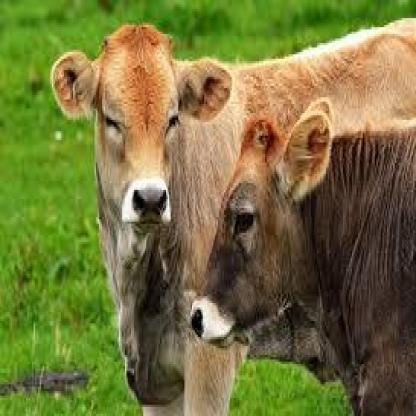cow: (50, 22, 415, 416), (189, 95, 416, 416)
